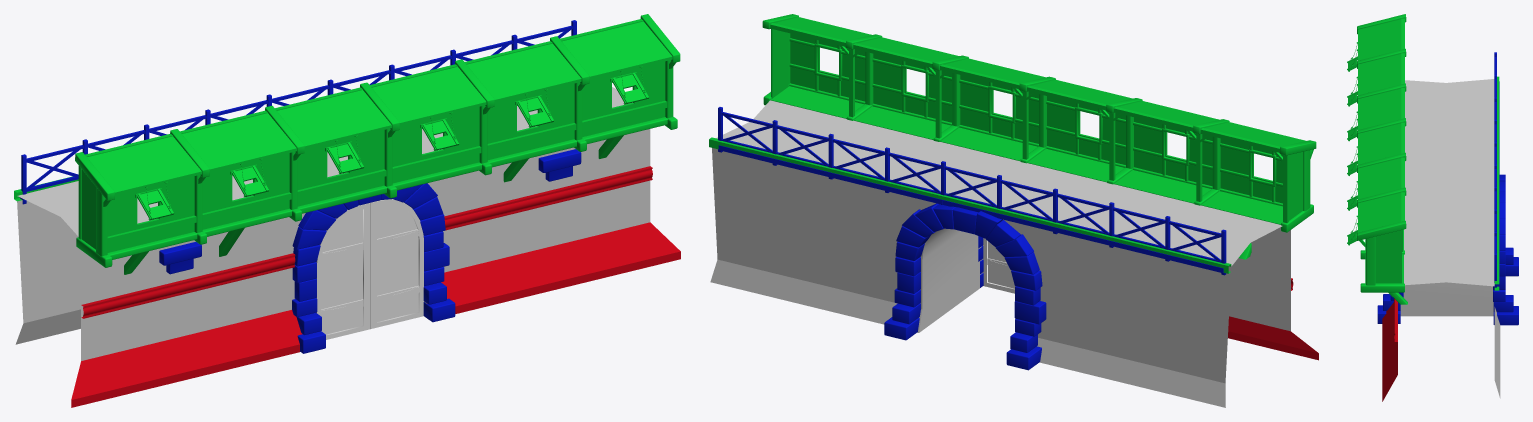
The model's file is Wall_Goal_v2fbx.fbx.
The picture shows the model from 3 angles, left to right: view 1: azimuth 30°, elevation 25°; view 2: azimuth 150°, elevation 25°; view 3: azimuth 270°, elevation 25°; orthographic projection. The views are drawn at different scales.
Visible parts, largest first — view 1: Group_4.015, Group_4.028, Group_3.005, Group_3.009, Group_3.010, Group_4.016, Group_4.025, Group_4.023, Group_4.027, Group_4.026, Group_4.024; view 2: Group_4.015, Group_4.028, Group_3.010, Group_3.005; view 3: Group_4.015, Group_4.028, Group_3.010.
Part boxes in pixels (left/top/right/bottom): Group_4.015: left=14, top=87, right=680, bottom=407; Group_4.028: left=75, top=14, right=680, bottom=274; Group_3.005: left=370, top=199, right=423, bottom=328; Group_3.009: left=316, top=203, right=370, bottom=339; Group_3.010: left=19, top=20, right=576, bottom=204; Group_4.016: left=612, top=73, right=649, bottom=104; Group_4.025: left=327, top=142, right=363, bottom=173; Group_4.023: left=517, top=96, right=554, bottom=127; Group_4.027: left=137, top=188, right=173, bottom=220; Group_4.026: left=232, top=165, right=269, bottom=197; Group_4.024: left=422, top=119, right=458, bottom=150; Group_4.015: left=709, top=100, right=1318, bottom=407; Group_4.028: left=762, top=14, right=1316, bottom=259; Group_3.010: left=718, top=107, right=1226, bottom=275; Group_3.005: left=983, top=238, right=1015, bottom=293; Group_4.015: left=1377, top=76, right=1518, bottom=401; Group_4.028: left=1357, top=14, right=1407, bottom=304; Group_3.010: left=1493, top=52, right=1499, bottom=290.
Bounding box in the file's own units: 2058 × 769 × 671.
